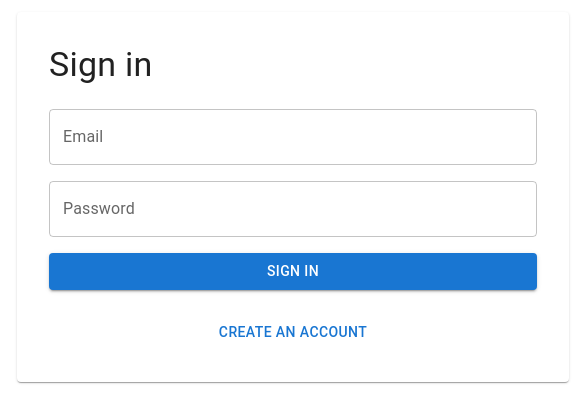
Test: auth flow › opens signup from login
Click the link "Create an account" at point(293, 332), box [219,324,367,340]
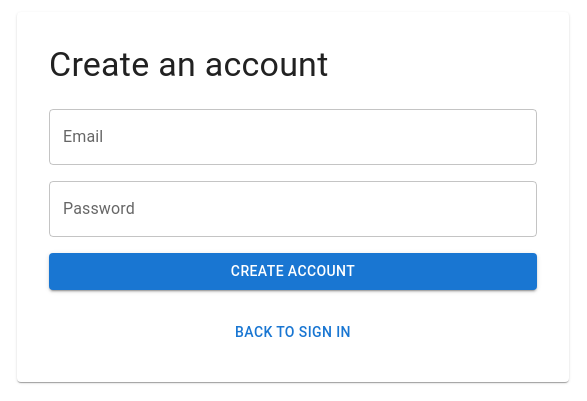
Expected: the heading "Create an account" is shown, [49,44,328,84]
